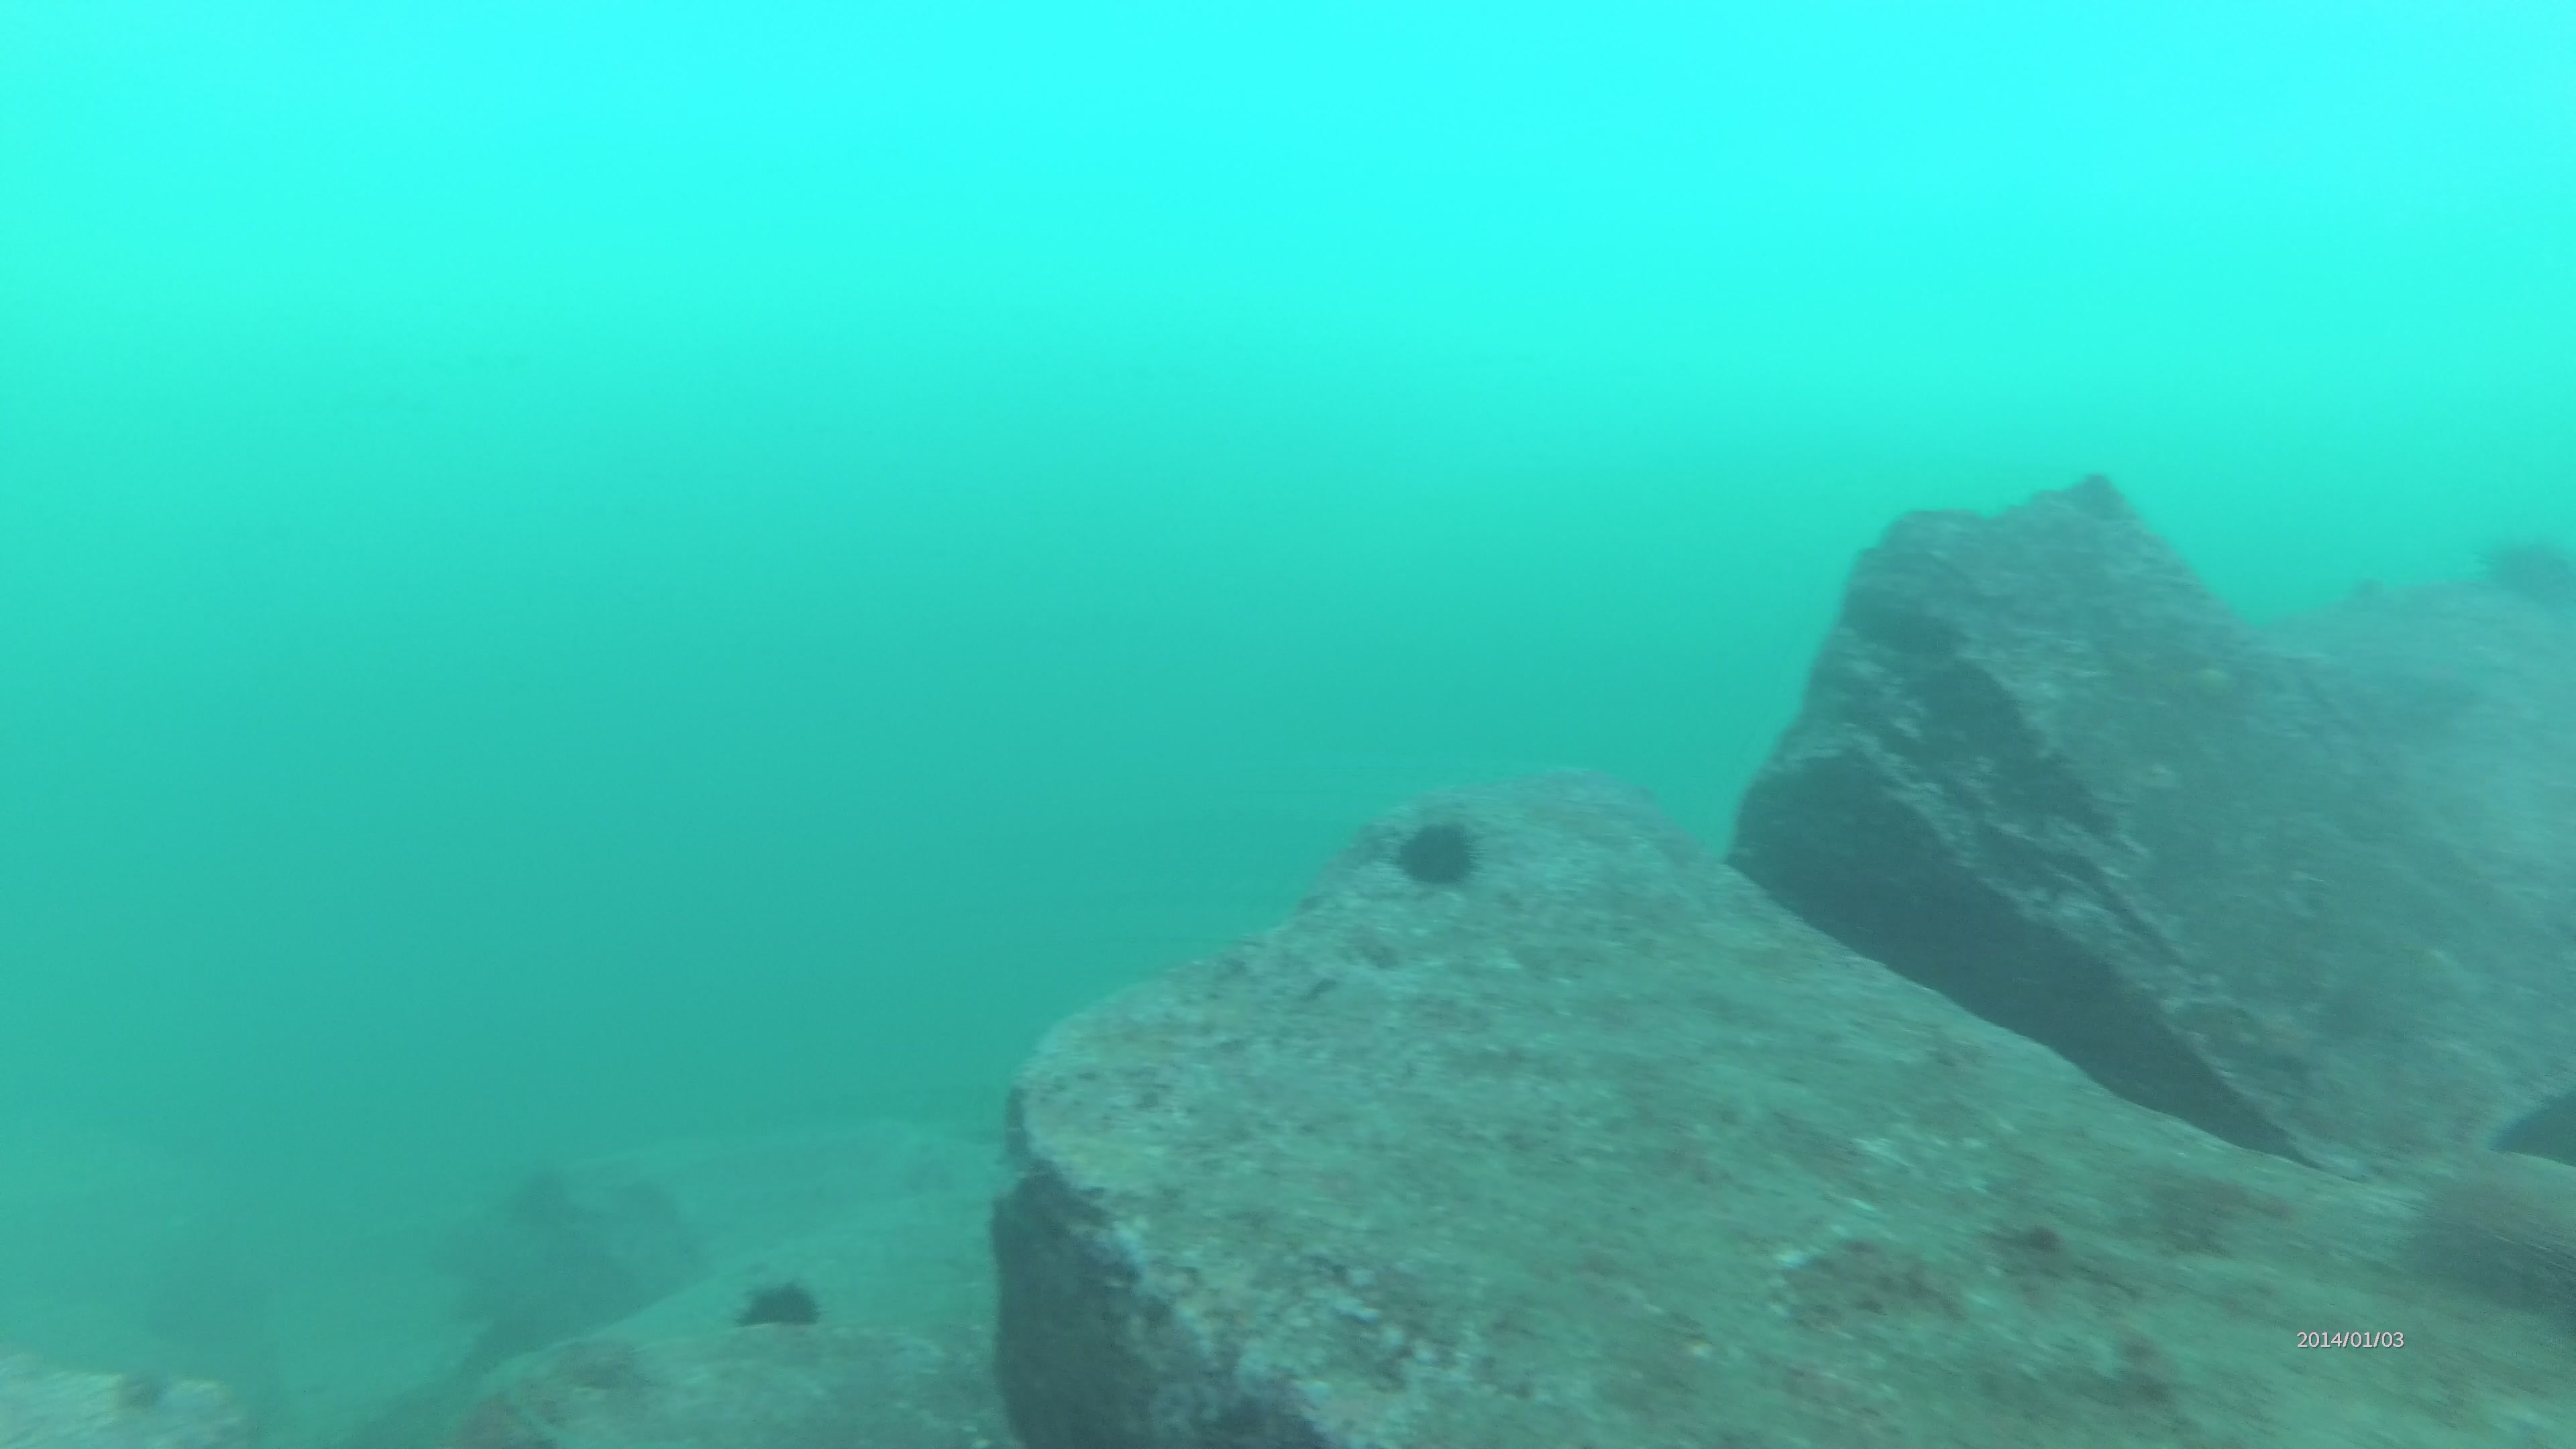echinus: (727, 1269, 830, 1343), (1394, 817, 1484, 890)
